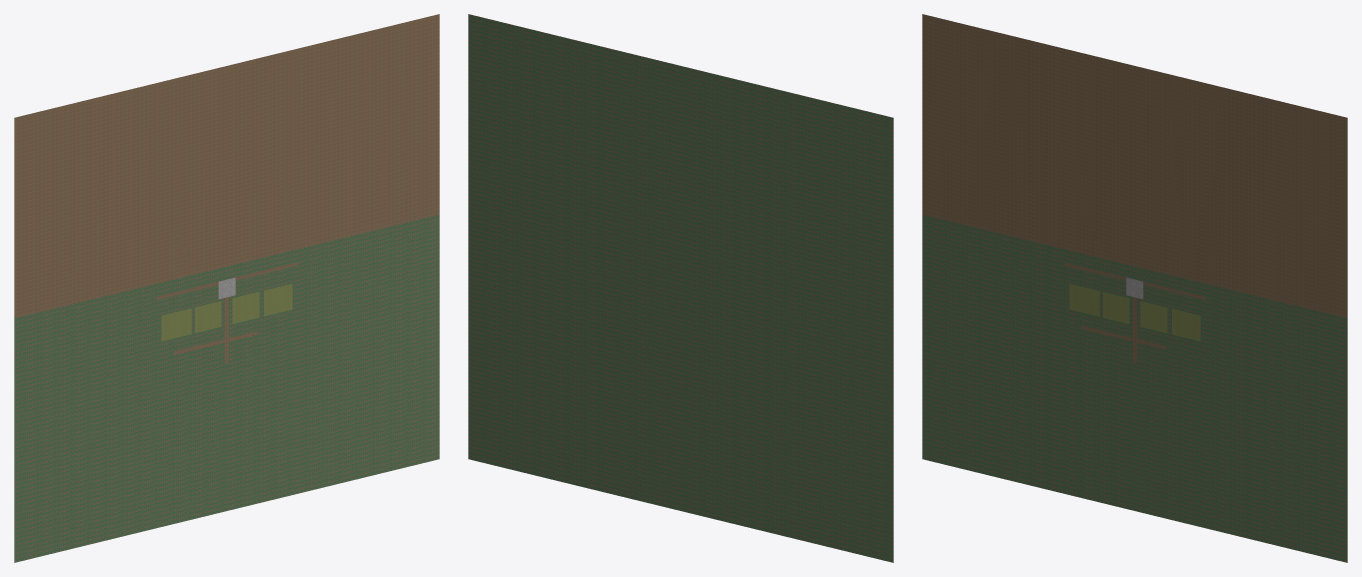
Rendered from ground.obj.
3 renders of one model, left to right at view 1: azimuth 30°, elevation 25°; view 2: azimuth 150°, elevation 25°; view 3: azimuth 330°, elevation 25°, orthographic.
Size of the model in its own units: 600 by 600 by 0.035.
Materials: 5 (5 with a texture image).
